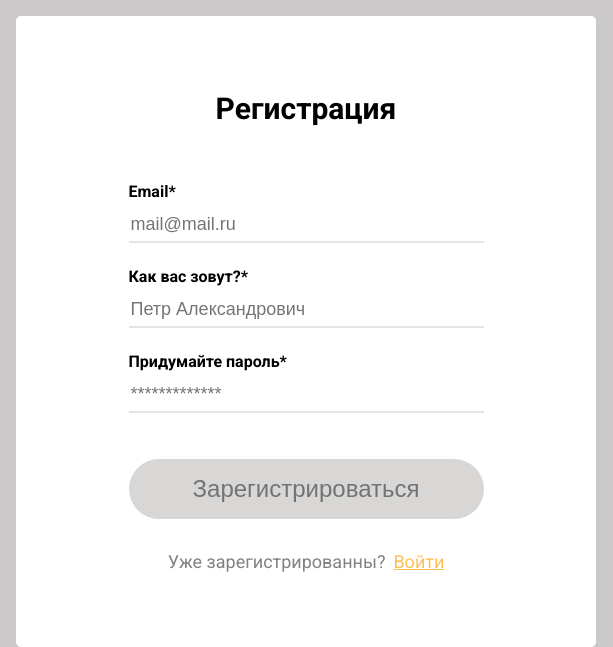
Test: RegistrationForm › on input: invalidemail, Владимир Владимиров, 123456 shows error: "Введите корректный Email"
Step 1. Type "invalidemail" into the field with test id "Input:input" showing "Email*" → coordinates (306, 227), box [128, 211, 484, 243]
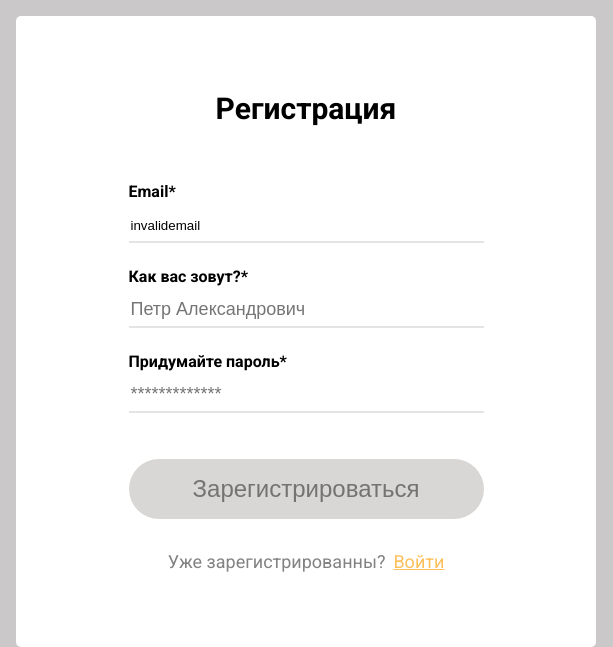
Step 2. Type "Владимир Владимиров" into the field with test id "Input:input" showing "Как вас зовут?*" → coordinates (306, 312), box [128, 296, 484, 328]
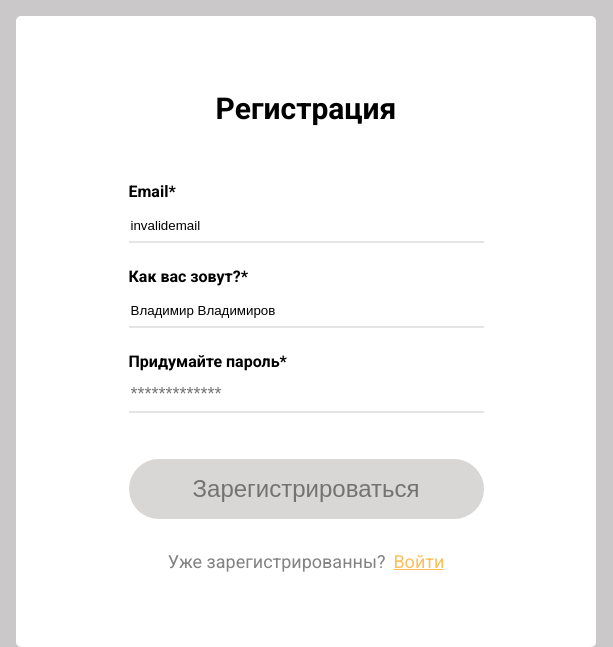
Step 3. Type "123456" into the password field with test id "Input:input" showing "Придумайте пароль*" → coordinates (306, 397), box [128, 381, 484, 413]
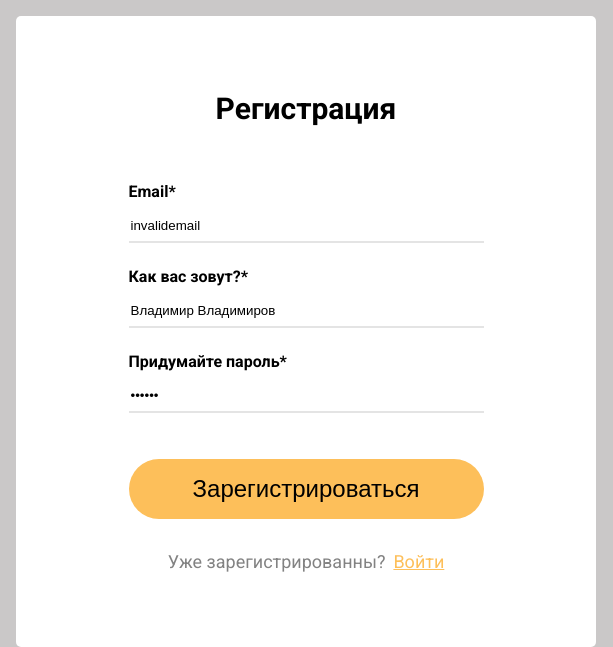
Step 4. Click the button with test id "Button:button" → coordinates (306, 489), box [128, 459, 484, 519]
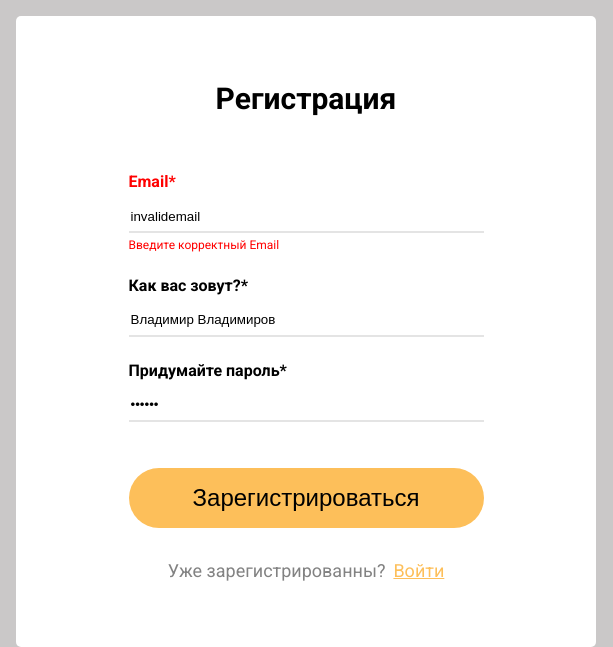
Expected: the text "Введите корректный Email" is shown, [128, 238, 279, 252]
